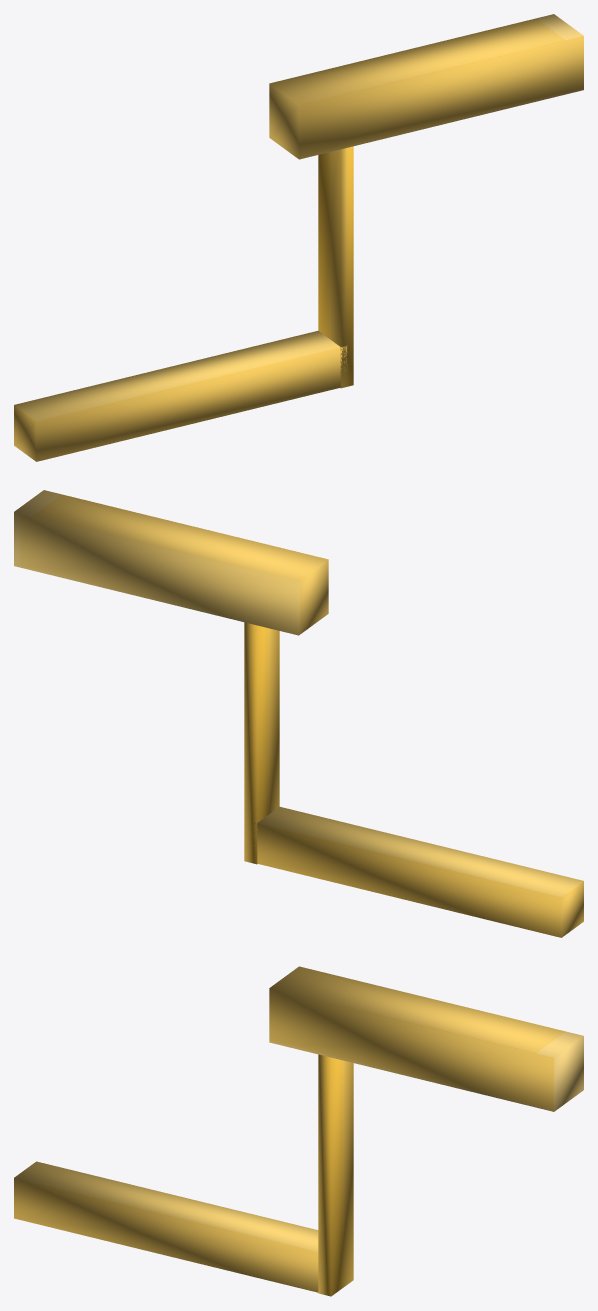
The model's file is handle_shard_mill.obj.
The picture shows the model from 3 angles, top to bottom: view 1: azimuth 30°, elevation 25°; view 2: azimuth 150°, elevation 25°; view 3: azimuth 330°, elevation 25°; orthographic projection.
Parts seen in each view (by area): view 1: default; view 2: default; view 3: default.
Part boxes in pixels (x1,y1,x2,y2): default: [14, 14, 583, 461]; default: [14, 490, 583, 937]; default: [14, 966, 583, 1296].
Bounding box in the file's own units: 2.1 × 1.1 × 0.2.
